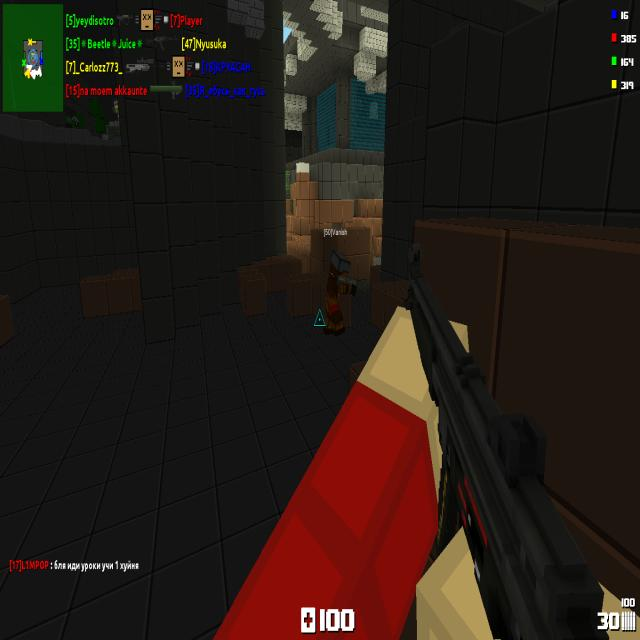enemy: (64, 105, 80, 129), (112, 98, 120, 120)
